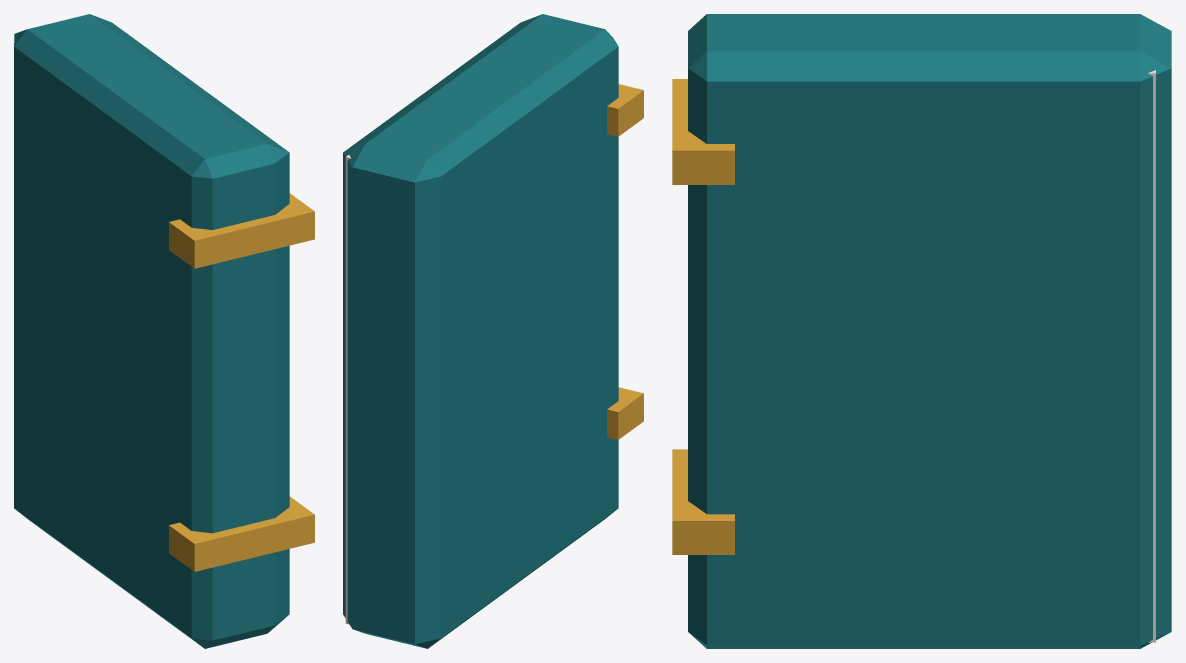
The model's file is book_upright.glb.
The picture shows the model from 3 angles, left to right: view 1: azimuth 30°, elevation 25°; view 2: azimuth 150°, elevation 25°; view 3: azimuth 270°, elevation 25°; orthographic projection. The views are drawn at different scales.
Visible parts, largest first — view 1: book_upright; view 2: book_upright; view 3: book_upright.
Part boxes in pixels (x1=…): book_upright: x1=14, y1=14, x2=314, y2=648; book_upright: x1=343, y1=14, x2=643, y2=648; book_upright: x1=672, y1=14, x2=1171, y2=648.
Bounding box in the file's own units: 0.054 × 0.21 × 0.159.
